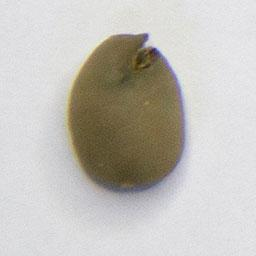defect: (63, 29, 189, 193)
